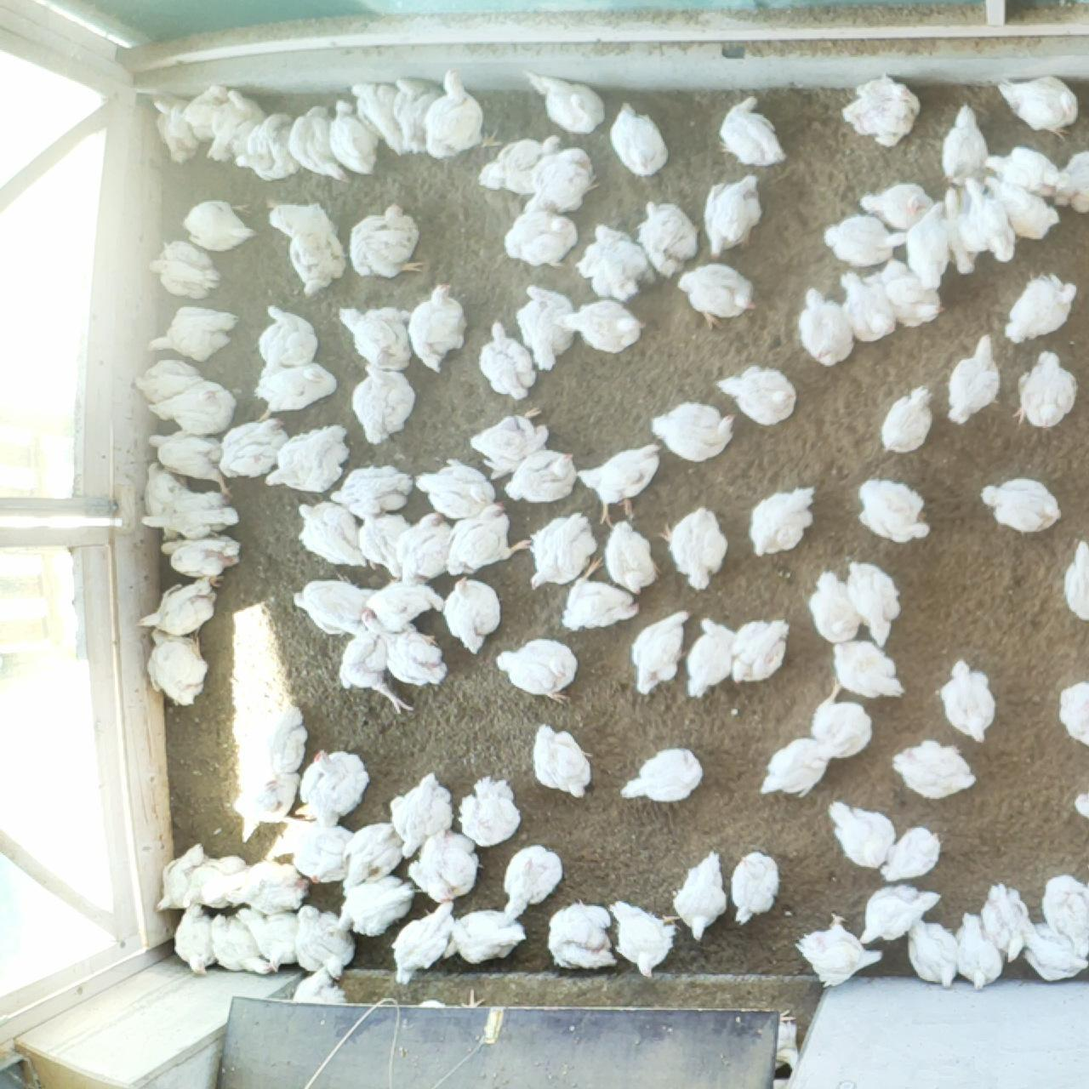chicken: (336, 613, 408, 713), (425, 75, 503, 157), (577, 440, 655, 522), (275, 203, 344, 292), (797, 917, 887, 984), (447, 504, 533, 572), (388, 774, 456, 859), (522, 70, 607, 136), (471, 408, 552, 477), (145, 434, 238, 494), (705, 174, 771, 258), (526, 515, 596, 592), (660, 510, 727, 590), (344, 207, 419, 277), (1004, 272, 1075, 344), (494, 641, 575, 704), (391, 510, 451, 595), (938, 661, 1000, 743), (292, 579, 381, 636), (144, 629, 208, 708), (405, 835, 476, 906), (841, 77, 914, 146), (863, 887, 944, 949), (611, 902, 677, 978), (946, 336, 1002, 425), (267, 425, 342, 491), (1013, 916, 1089, 981), (301, 750, 373, 818), (580, 227, 645, 302), (287, 107, 351, 183), (677, 265, 756, 326), (720, 94, 786, 167), (517, 283, 571, 372), (714, 368, 796, 426), (653, 401, 735, 459), (1014, 349, 1075, 426), (827, 801, 895, 870), (398, 902, 457, 981), (676, 852, 728, 941), (894, 741, 975, 798), (1000, 77, 1078, 136), (148, 305, 233, 359), (752, 487, 818, 556), (352, 368, 418, 437), (142, 495, 243, 540), (551, 903, 615, 973), (294, 502, 364, 566), (876, 265, 948, 327), (856, 481, 928, 543), (241, 903, 303, 975), (503, 845, 560, 923), (505, 204, 575, 267), (157, 531, 237, 586), (758, 738, 830, 799), (640, 202, 697, 278), (984, 478, 1061, 534), (448, 912, 526, 967), (480, 325, 537, 400), (848, 562, 900, 644), (148, 383, 230, 435), (635, 610, 686, 693), (419, 459, 493, 516), (443, 578, 499, 653), (351, 82, 408, 155), (288, 821, 356, 882), (220, 416, 291, 474), (481, 140, 563, 190), (621, 750, 703, 800), (256, 306, 317, 373), (563, 580, 640, 633), (394, 81, 442, 166), (441, 584, 501, 652), (532, 727, 590, 797), (148, 242, 218, 300), (341, 311, 413, 367), (346, 822, 410, 885), (612, 105, 670, 174), (254, 368, 337, 416), (345, 882, 416, 938), (531, 155, 598, 214), (459, 778, 518, 845), (134, 586, 216, 634), (379, 624, 442, 686), (211, 916, 272, 980), (331, 467, 414, 514), (824, 221, 905, 269), (684, 619, 732, 700), (830, 643, 904, 695), (878, 825, 943, 884), (958, 192, 1015, 259), (412, 287, 462, 362), (806, 696, 869, 755), (602, 523, 653, 595), (728, 622, 790, 681), (984, 885, 1032, 961), (247, 118, 301, 185), (908, 922, 961, 990), (909, 206, 954, 285), (957, 914, 1003, 991), (351, 507, 403, 575), (565, 299, 636, 348), (986, 190, 1060, 237), (731, 854, 781, 923), (168, 907, 214, 981), (942, 107, 984, 188), (185, 203, 257, 250), (508, 453, 573, 505), (209, 99, 260, 165), (806, 288, 848, 368), (1043, 878, 1089, 951), (841, 272, 890, 340), (811, 571, 857, 643), (878, 389, 930, 452), (369, 578, 440, 624), (980, 154, 1054, 198), (858, 187, 928, 233), (129, 357, 199, 403), (300, 912, 351, 975), (151, 98, 197, 165), (1043, 148, 1089, 209), (260, 704, 301, 772), (946, 200, 982, 272), (186, 86, 233, 140), (337, 97, 369, 176), (165, 847, 206, 906), (206, 852, 244, 907), (1064, 542, 1089, 622), (1062, 681, 1089, 746), (295, 975, 344, 1007)
